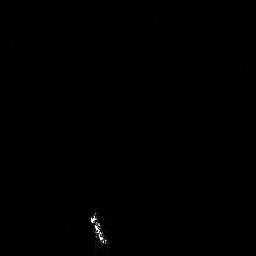ship: (86, 205, 112, 249)
